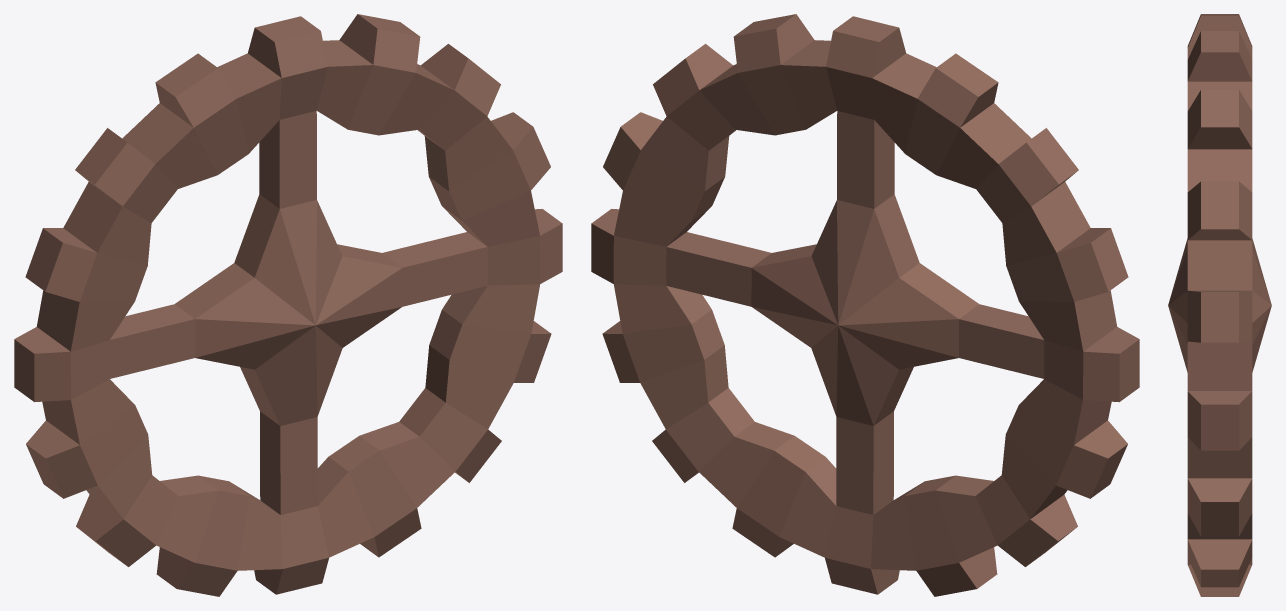
File: Dragonfly_Gears_Cog.fbx
The picture shows the model from 3 angles, left to right: view 1: azimuth 30°, elevation 25°; view 2: azimuth 150°, elevation 25°; view 3: azimuth 270°, elevation 25°; orthographic projection. The views are drawn at different scales.
Visible parts, largest first — view 1: Cog_Spinner; view 2: Cog_Spinner; view 3: Cog_Spinner.
Boxes of the visible parts, bbox=[...] form: Cog_Spinner: bbox=[14, 14, 562, 596]; Cog_Spinner: bbox=[591, 14, 1139, 596]; Cog_Spinner: bbox=[1168, 14, 1271, 596].
Size of the model in its own units: 17.93 by 17.93 by 3.2.
